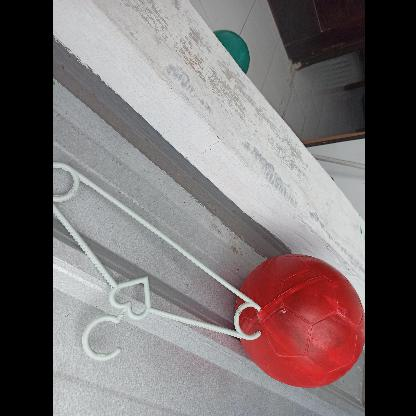red_ball: (235, 254, 366, 390)
